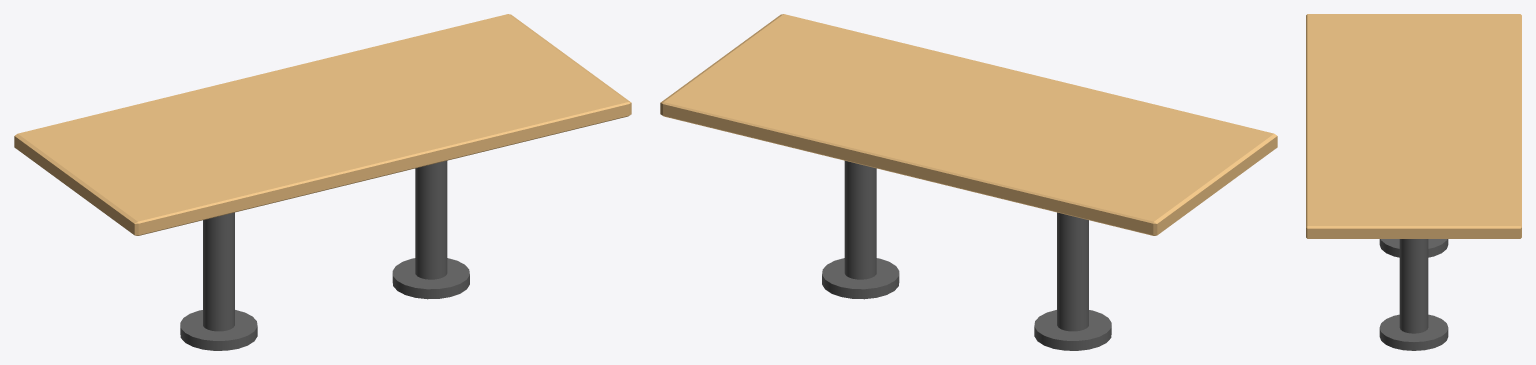
File: novakfi19_Stolek2Lidi.fbx
3 renders of one model, left to right at view 1: azimuth 30°, elevation 25°; view 2: azimuth 150°, elevation 25°; view 3: azimuth 270°, elevation 25°, orthographic. The views are drawn at different scales.
Visible parts, largest first — view 1: pCube12, pCylinder4, pCylinder2, pCylinder3, pCylinder1; view 2: pCube12, pCylinder4, pCylinder2, pCylinder3, pCylinder1; view 3: pCube12, pCylinder4, pCylinder3, pCylinder1.
Part boxes in pixels (x1,y1,x2,y2): pCube12: (14,14,631,235); pCylinder4: (415,161,447,279); pCylinder2: (203,212,234,331); pCylinder3: (392,258,469,299); pCylinder1: (180,310,257,350); pCube12: (660,14,1277,235); pCylinder4: (844,161,876,279); pCylinder2: (1057,212,1088,331); pCylinder3: (822,258,899,299); pCylinder1: (1034,310,1111,350); pCube12: (1306,14,1521,238); pCylinder4: (1399,239,1428,333); pCylinder3: (1379,314,1448,350); pCylinder1: (1379,239,1448,257).
Size of the model in its own units: 2.35 by 0.8666 by 1.
